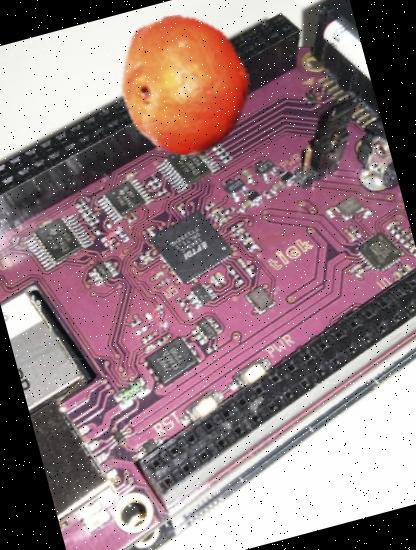Clementine: (95, 0, 276, 179)
